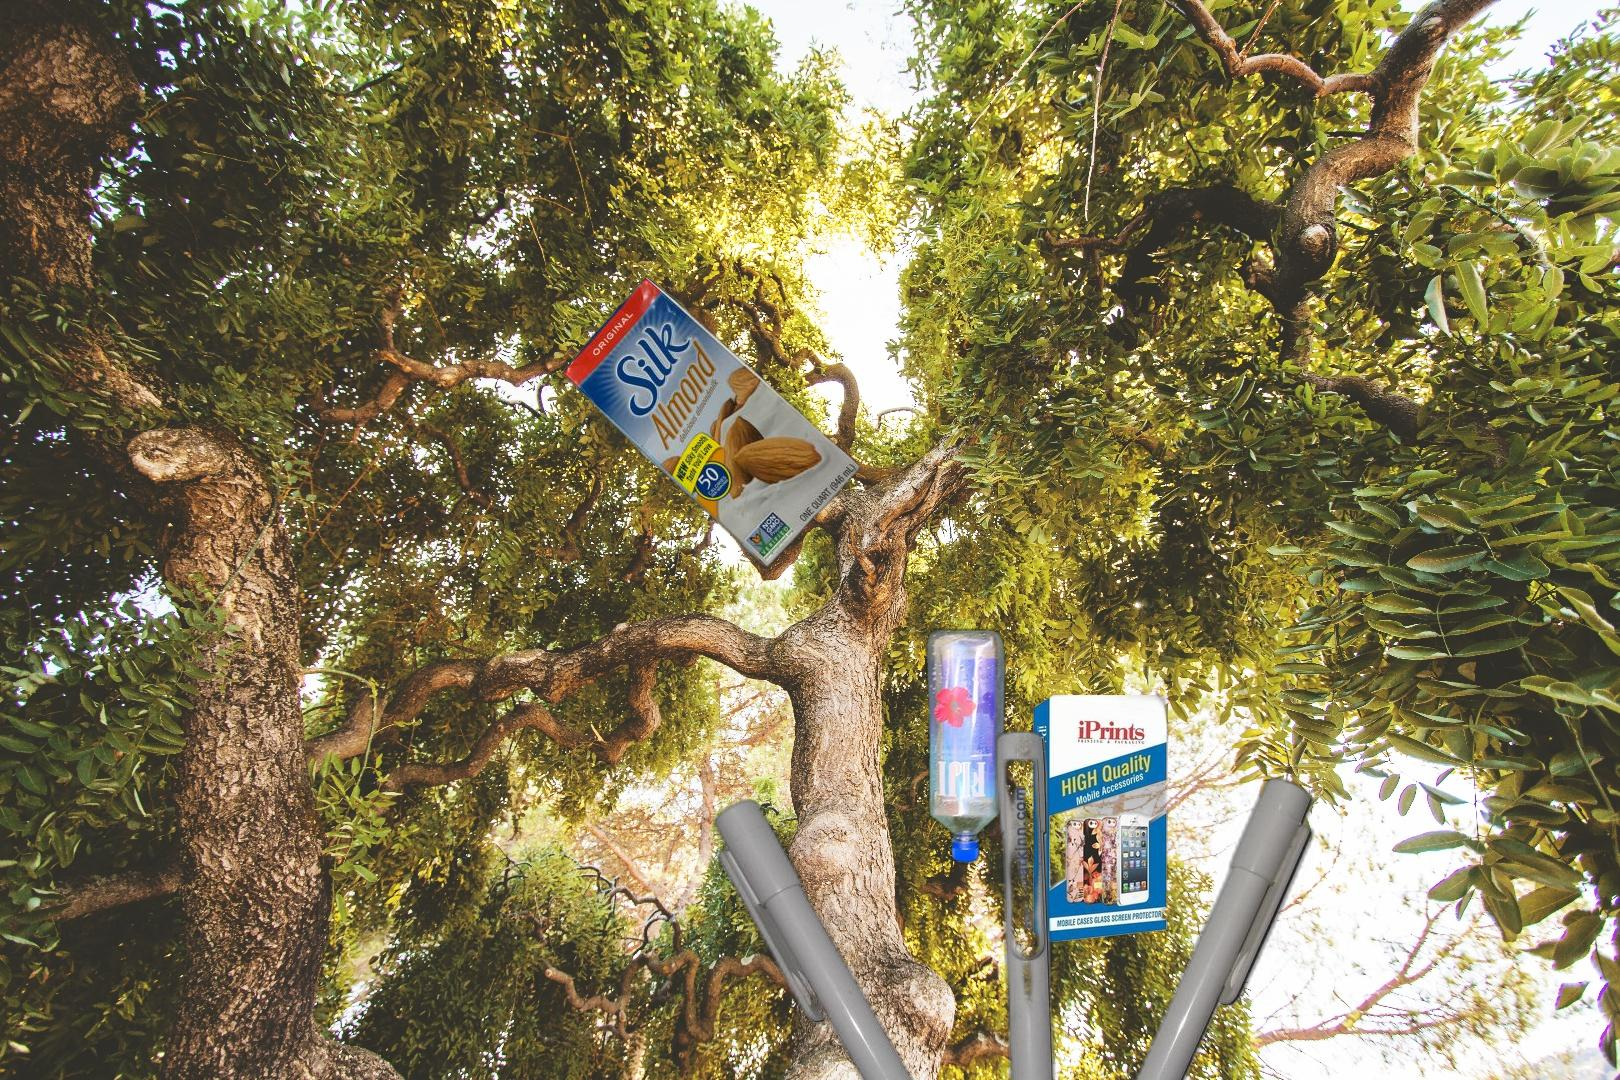paper: (557, 272, 864, 570), (1499, 225, 1620, 610)
penholder: (705, 724, 1323, 1080)
plastic-bottles: (922, 623, 1009, 871)
trashbox-cardboard: (1022, 695, 1188, 945)
